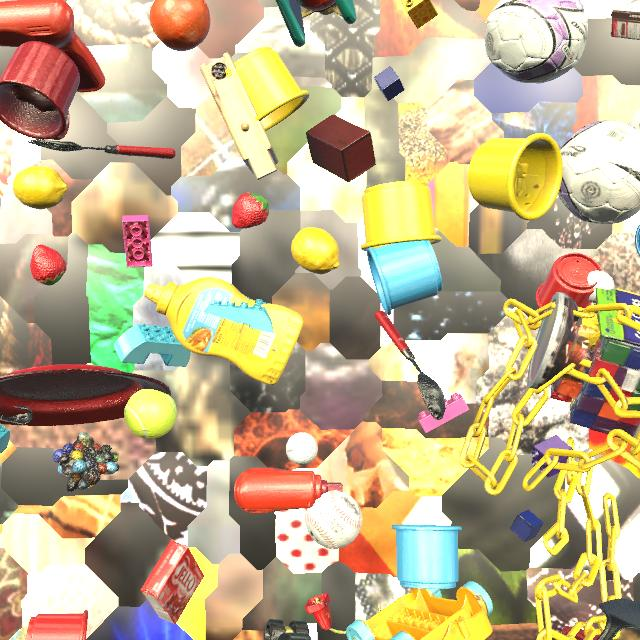ycb_006_mustard_bottle: (144, 277, 303, 385)
ycb_008_pudding_box: (611, 0, 640, 40)
ycb_009_gelatin_box: (141, 539, 204, 624)
ycb_012_strawberry: (30, 244, 66, 285), (232, 192, 269, 229)
ycb_014_lemon: (13, 166, 68, 209), (291, 227, 340, 274)
ycb_017_orange: (150, 0, 210, 51)
